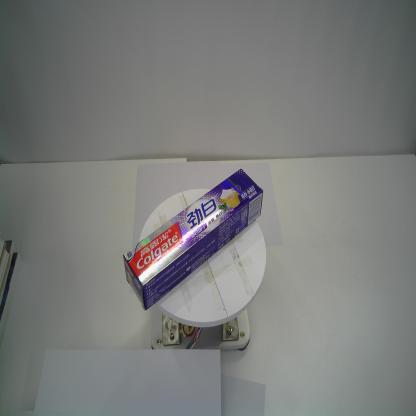Personal Hygiene: (121, 166, 265, 314)
